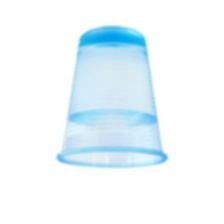glass: (51, 22, 170, 171)
